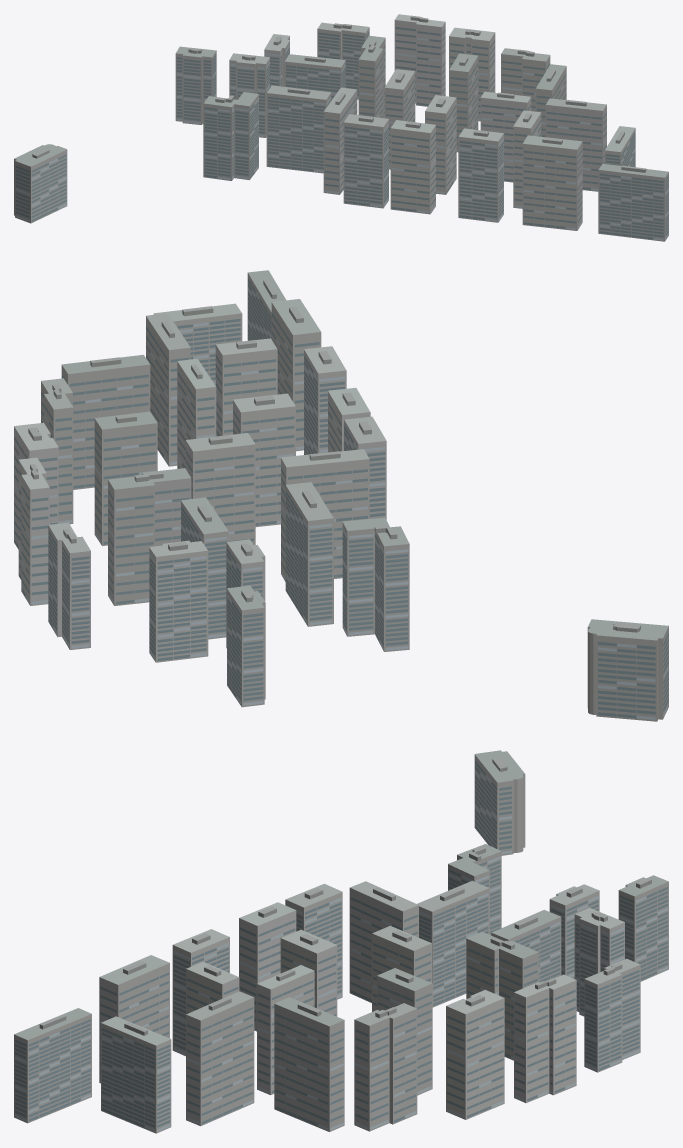
File: apt-a13615003.glb
The picture shows the model from 3 angles, top to bottom: view 1: azimuth 30°, elevation 25°; view 2: azimuth 150°, elevation 25°; view 3: azimuth 270°, elevation 25°; orthographic projection. The views are drawn at different scales.
Visible parts, largest first — view 1: apt-a13615003; view 2: apt-a13615003; view 3: apt-a13615003.
Boxes of the visible parts, x1=… form: apt-a13615003: x1=14, y1=14, x2=668, y2=241; apt-a13615003: x1=14, y1=270, x2=668, y2=721; apt-a13615003: x1=14, y1=750, x2=668, y2=1133.
Bounding box in the file's own units: 412 × 68 × 368.
